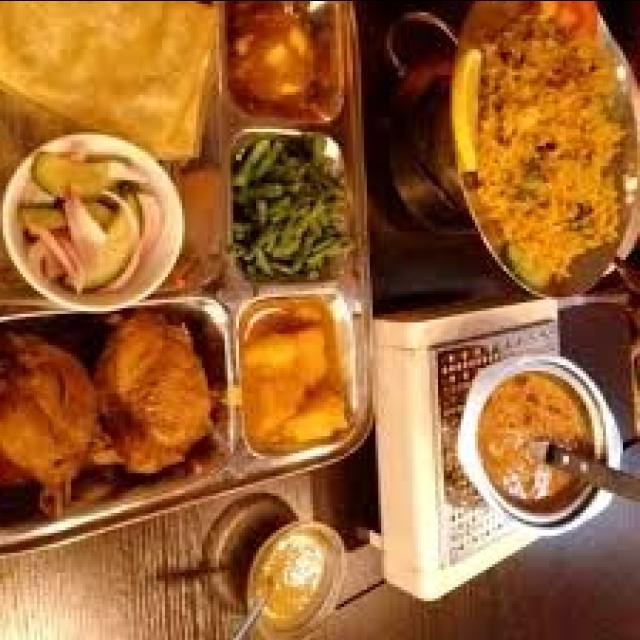dal: (2, 450, 48, 543)
roti: (466, 11, 628, 282)
sweet: (465, 354, 601, 524)
veg-fry: (466, 357, 600, 524), (222, 130, 352, 282)
